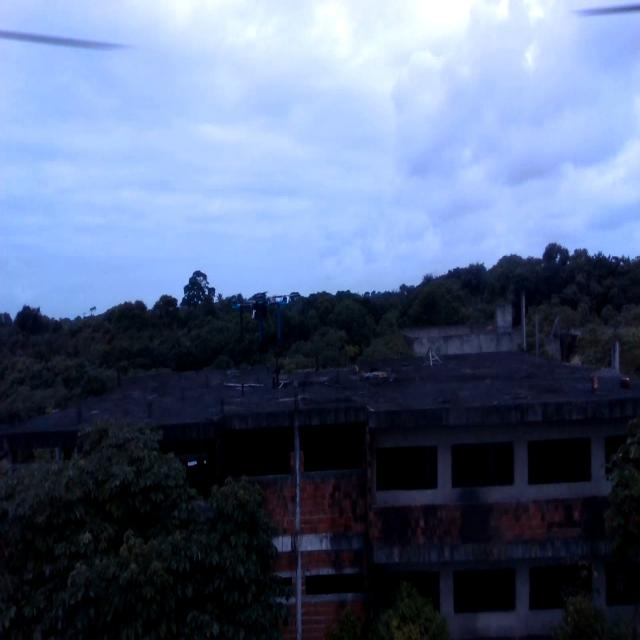-uav-: (228, 266, 300, 364)
